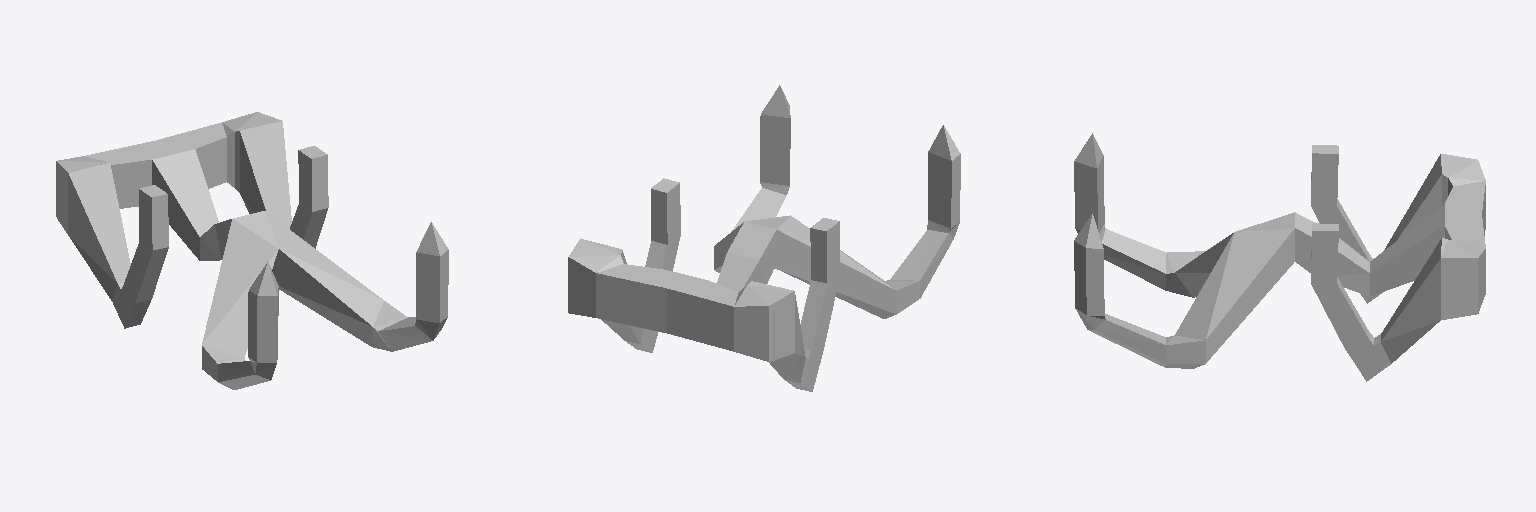
The model's file is yrig.obj.
3 views of the same model, side by side, from view 1: azimuth 30°, elevation 25°; view 2: azimuth 150°, elevation 25°; view 3: azimuth 270°, elevation 25° (orthographic).
Visible parts, largest first — view 1: off; view 2: off; view 3: off.
Part boxes in pixels (x1,y1,x2,y2): off: (56,112,448,389); off: (568,85,960,391); off: (1074,133,1485,381).
Bounding box in the file's own units: 2.65 × 1.96 × 4.41.